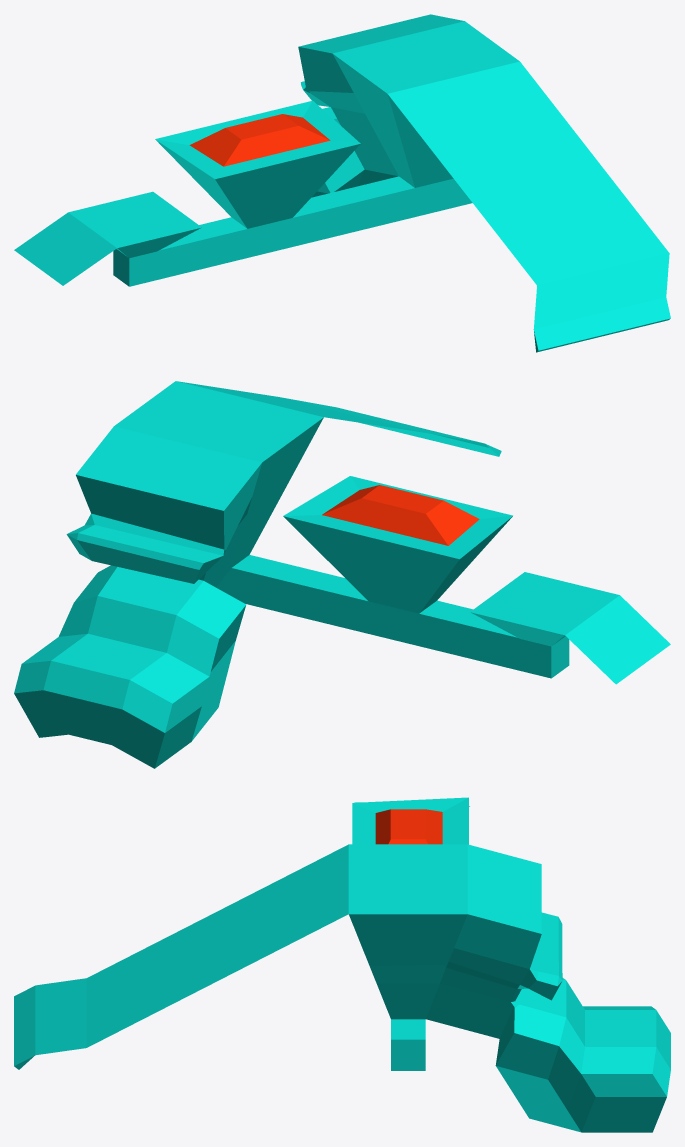
The model's file is NewLevel.fbx.
3 renders of one model, top to bottom at view 1: azimuth 30°, elevation 25°; view 2: azimuth 150°, elevation 25°; view 3: azimuth 270°, elevation 25°, orthographic. The views are drawn at different scales.
Visible parts, largest first — view 1: Cube; view 2: Cube; view 3: Cube.
Part boxes in pixels (<box>): Cube: <box>14,14,670,352</box>; Cube: <box>14,381,670,768</box>; Cube: <box>14,797,670,1132</box>.
Bounding box in the file's own units: 3440 × 1473 × 3789.
